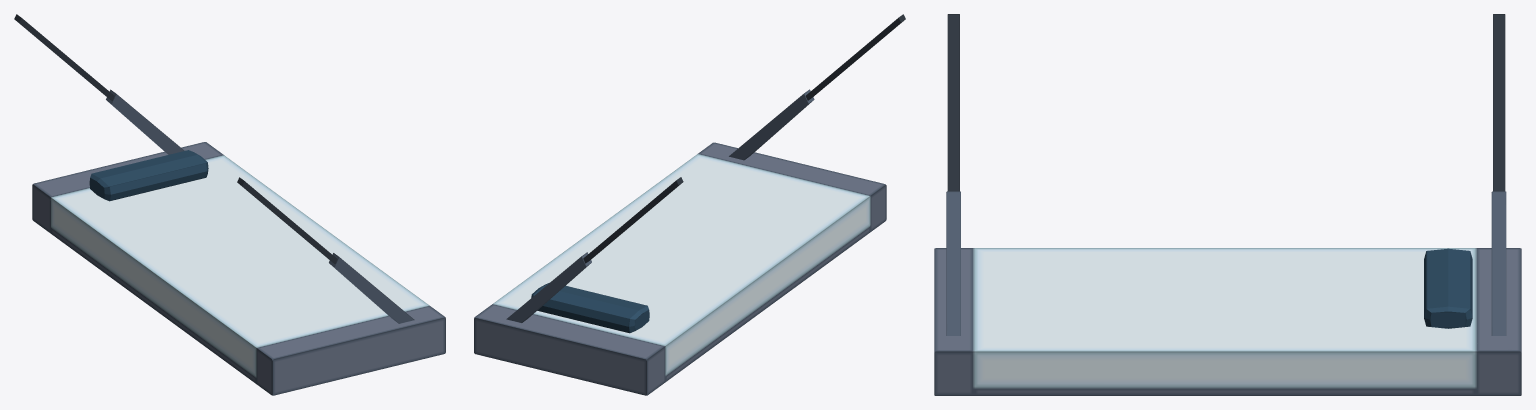
The model's file is ShipBed02.obj.
3 views of the same model, side by side, from view 1: azimuth 30°, elevation 25°; view 2: azimuth 150°, elevation 25°; view 3: azimuth 270°, elevation 25° (orthographic). The views are drawn at different scales.
Visible parts, largest first — view 1: Bed, cuboid; view 2: Bed, cuboid; view 3: Bed, cuboid.
Part boxes in pixels (x1,y1,x2,y2): Bed: [32, 142, 445, 395]; cuboid: [14, 14, 414, 323]; Bed: [474, 142, 886, 395]; cuboid: [506, 14, 905, 333]; Bed: [934, 248, 1521, 395]; cuboid: [946, 14, 1506, 335].
Size of the model in its own units: 0.7151 by 0.7465 by 1.5.
1 material, 1 textured.
